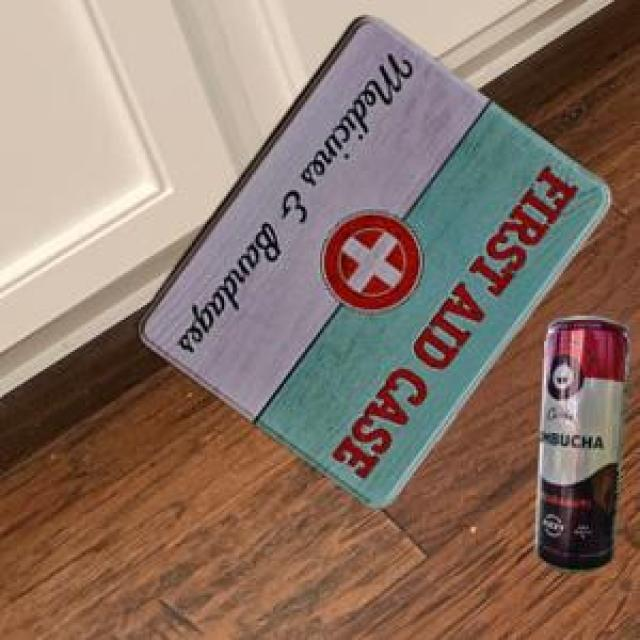Can: (133, 14, 607, 505), (532, 313, 628, 571)
